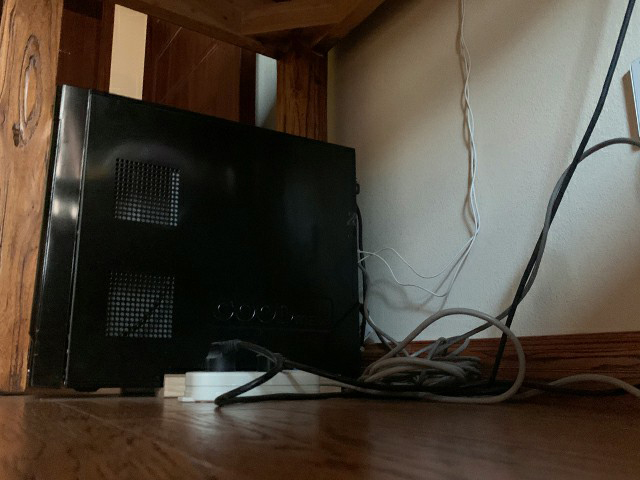wire: (178, 1, 640, 407)
